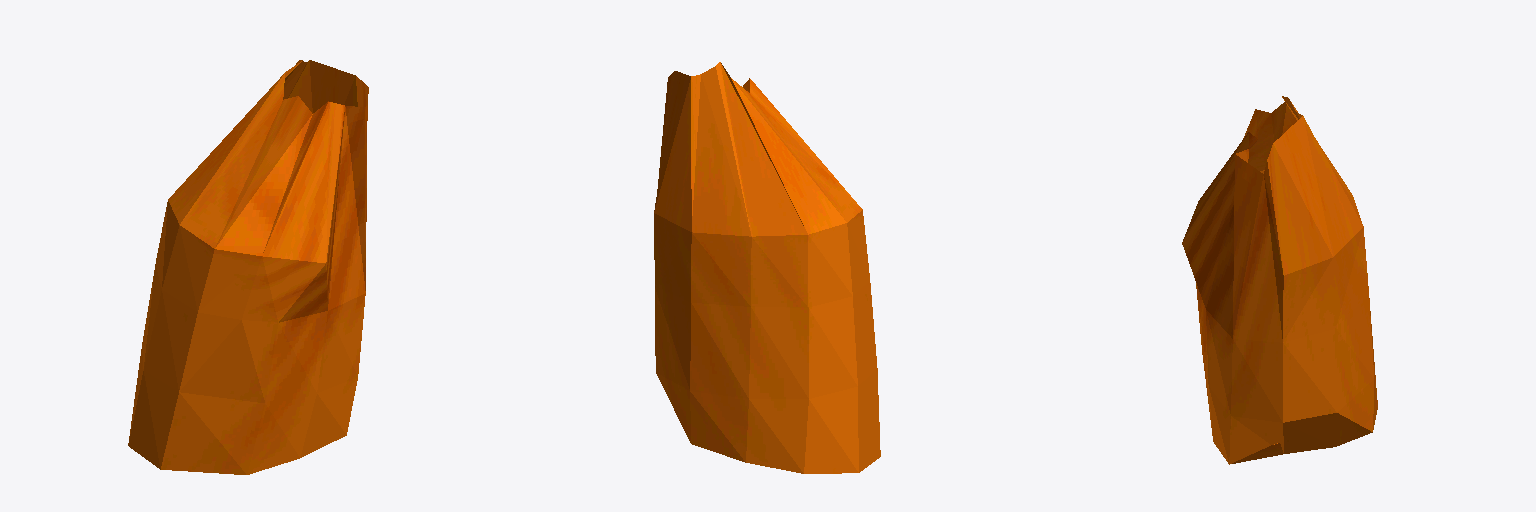
The picture shows the model from 3 angles: view 1: azimuth 30°, elevation 25°; view 2: azimuth 150°, elevation 25°; view 3: azimuth 270°, elevation 25°; orthographic projection.
Parts seen in each view (by area): view 1: Mesh.404_DrawCall_231.005; view 2: Mesh.404_DrawCall_231.005; view 3: Mesh.404_DrawCall_231.005.
Part boxes in pixels (x1,y1,x2,y2): Mesh.404_DrawCall_231.005: (128, 60, 368, 474); Mesh.404_DrawCall_231.005: (654, 62, 880, 473); Mesh.404_DrawCall_231.005: (1182, 96, 1377, 464).
Bounding box in the file's own units: 7.39 × 11.86 × 5.73.
Materials: 1 (1 with a texture image).